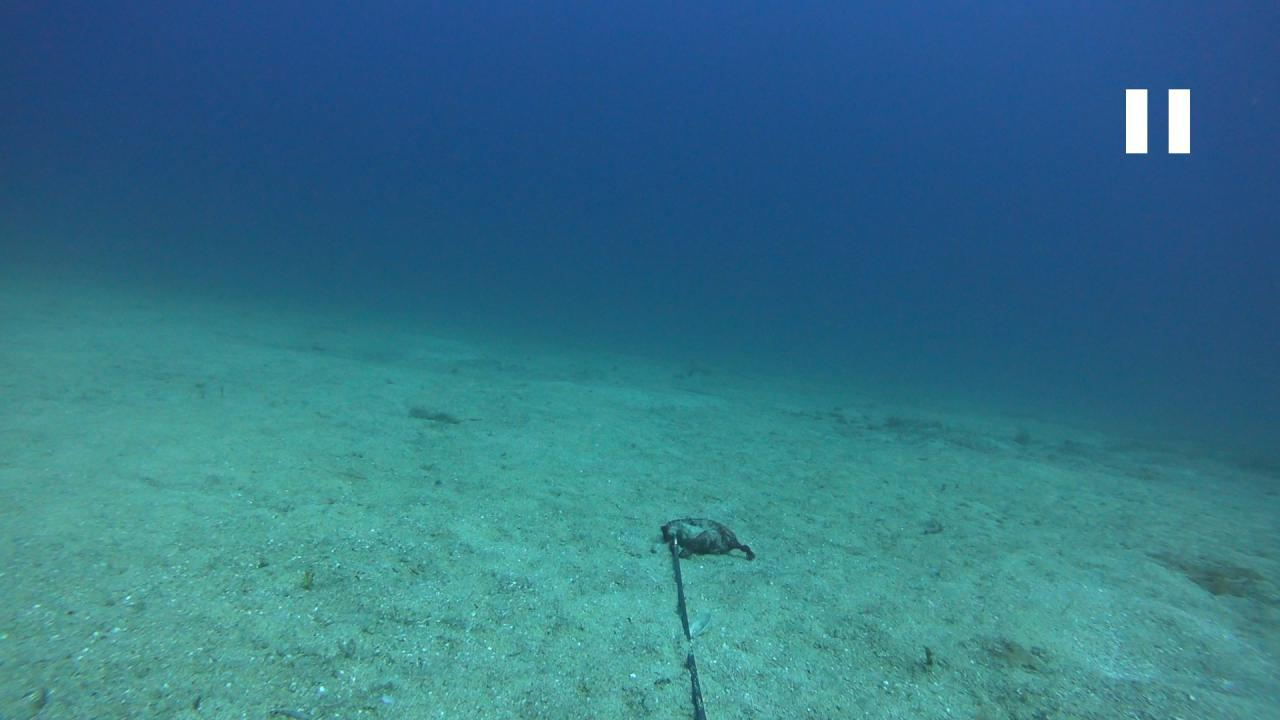dasyatis: (681, 354, 749, 378)
